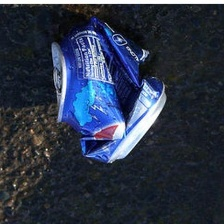can: (43, 11, 173, 169)
